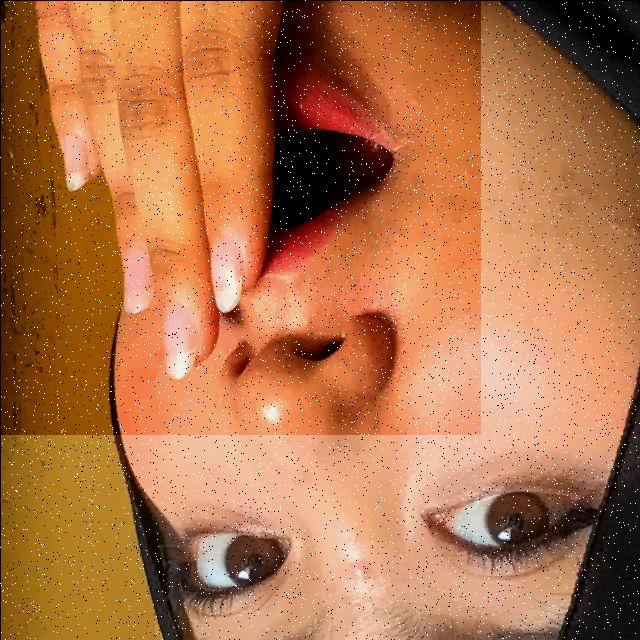ngantuk: (0, 0, 480, 434)
